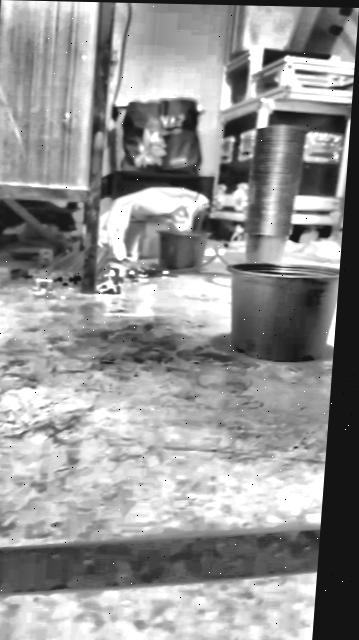pot: (220, 261, 340, 362)
